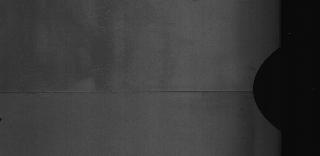welding line: (2, 86, 260, 98)
